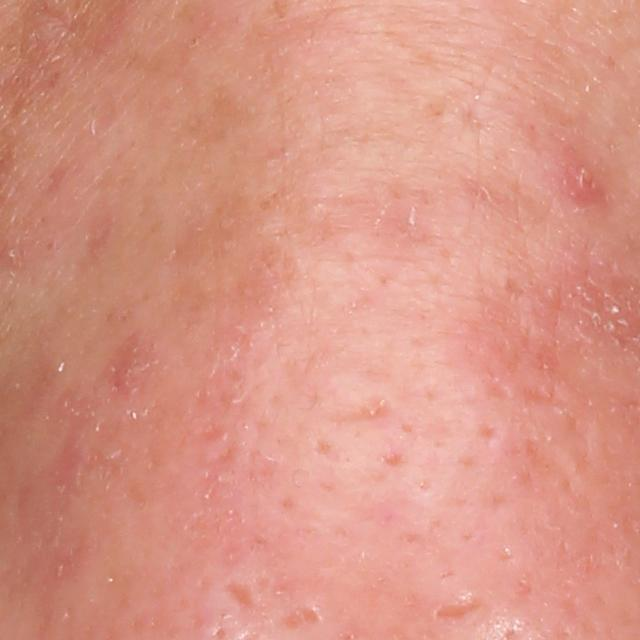atrophic_scar: (328, 394, 395, 430), (428, 588, 491, 625), (222, 579, 259, 612), (280, 603, 318, 633)
papule: (555, 148, 611, 211)
